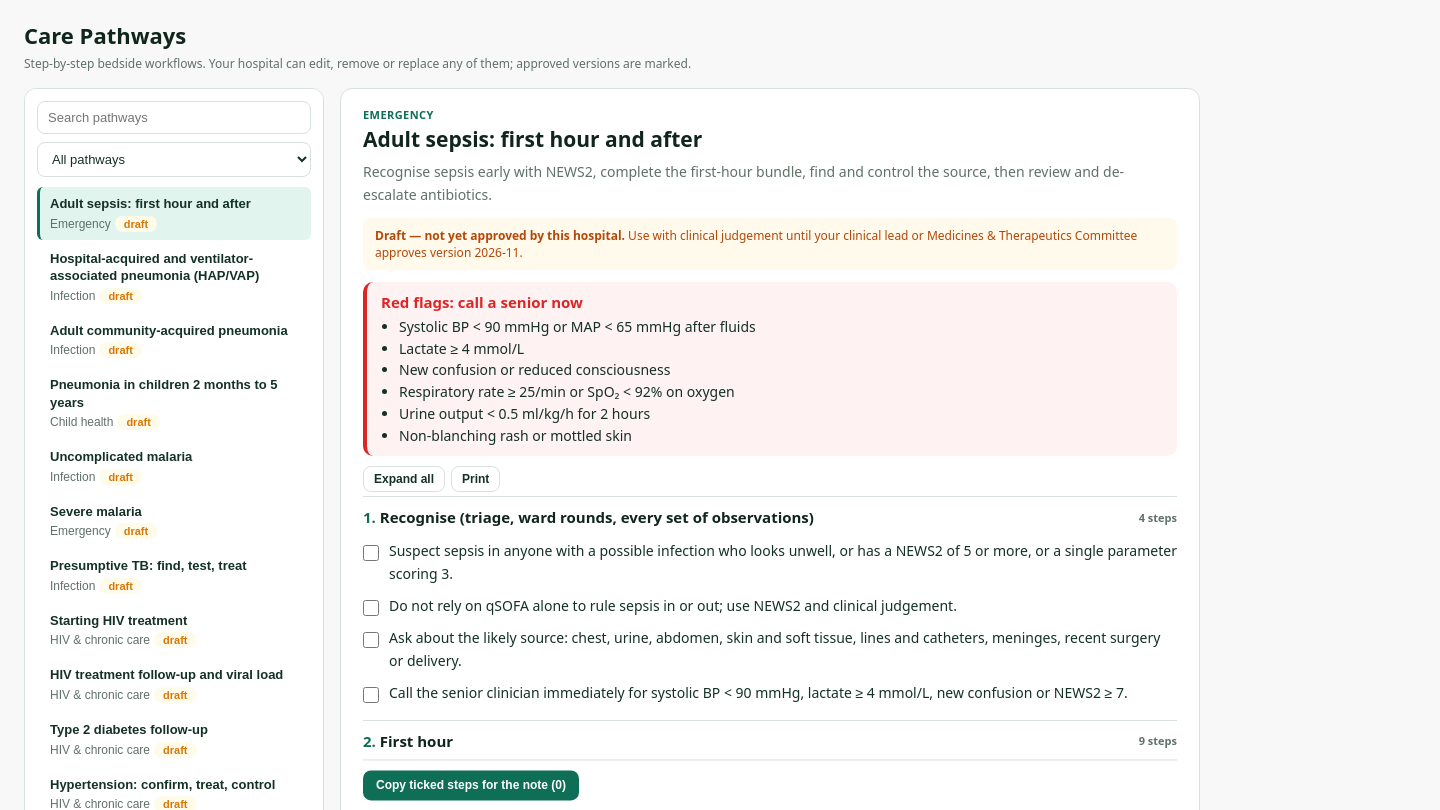
it: care pathways: hospital control › shows the deep built-in pathways, with red flags and steps to tick and copy
Check: the heading "Adult sepsis: first hour and after" is shown, box 363,125 -> 702,153
Check: the element "Red flags" is shown, box 363,282 -> 1177,456
Step 1. Click the 1st checkbox → (371, 553), box 363,545 -> 379,561
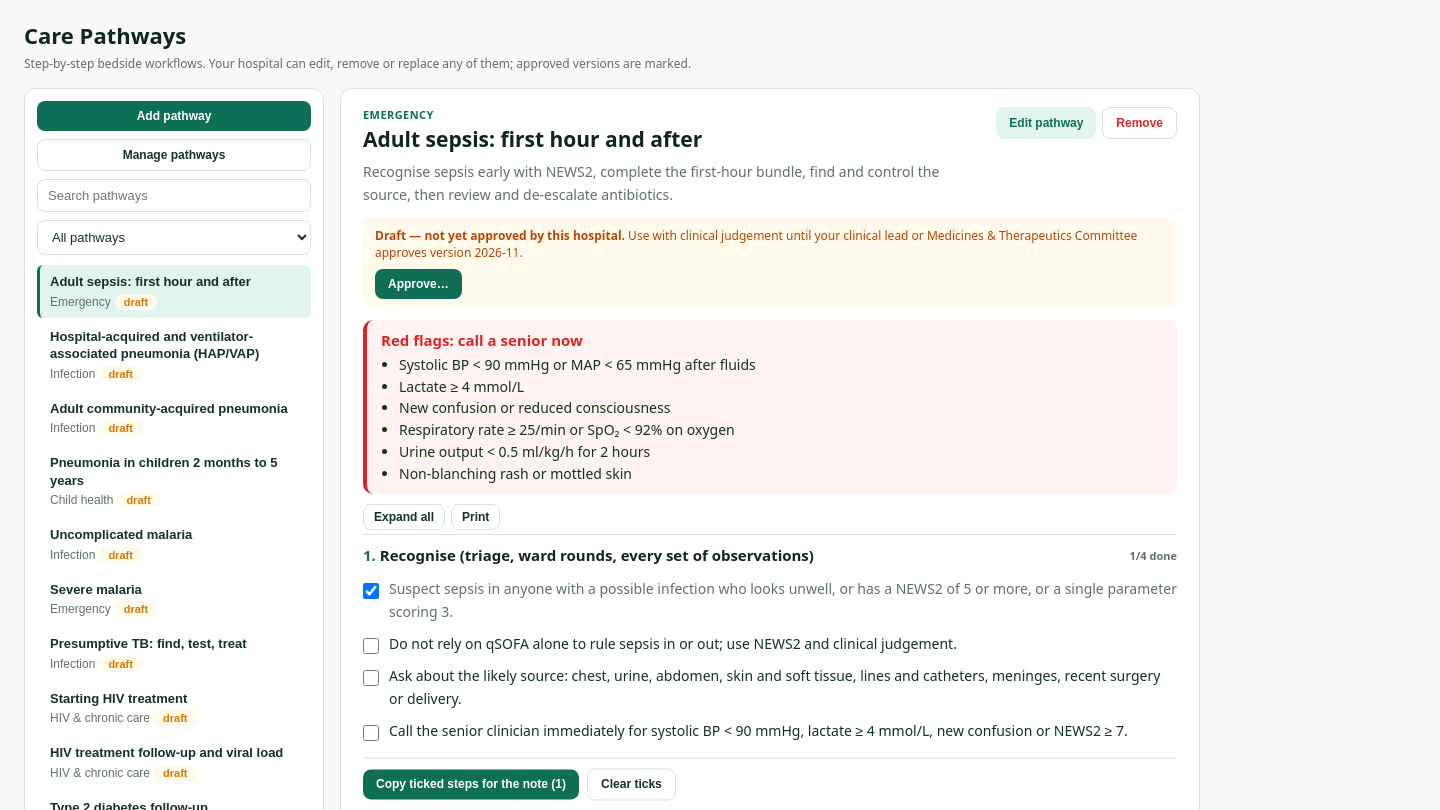
Check: the button "Copy ticked steps for the note (1)" is enabled, box 363,769 -> 579,799
